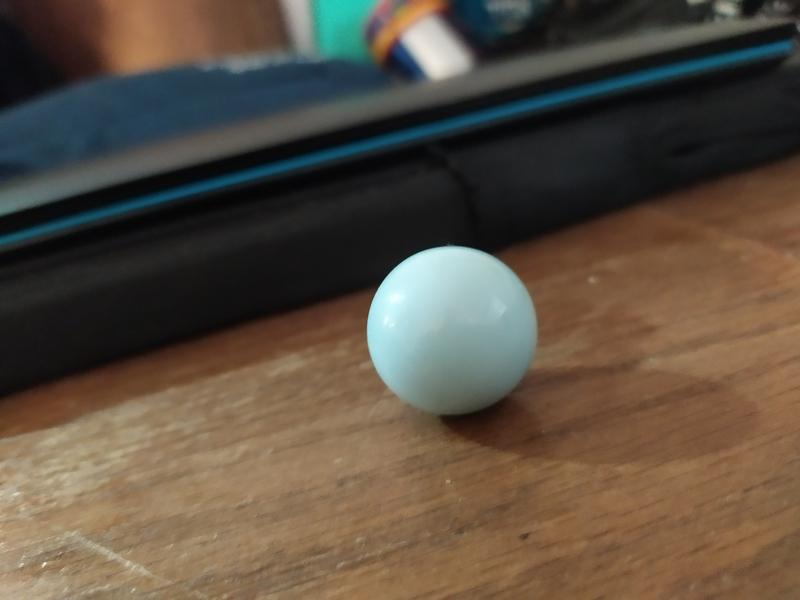Warning: (362, 239, 544, 420)
